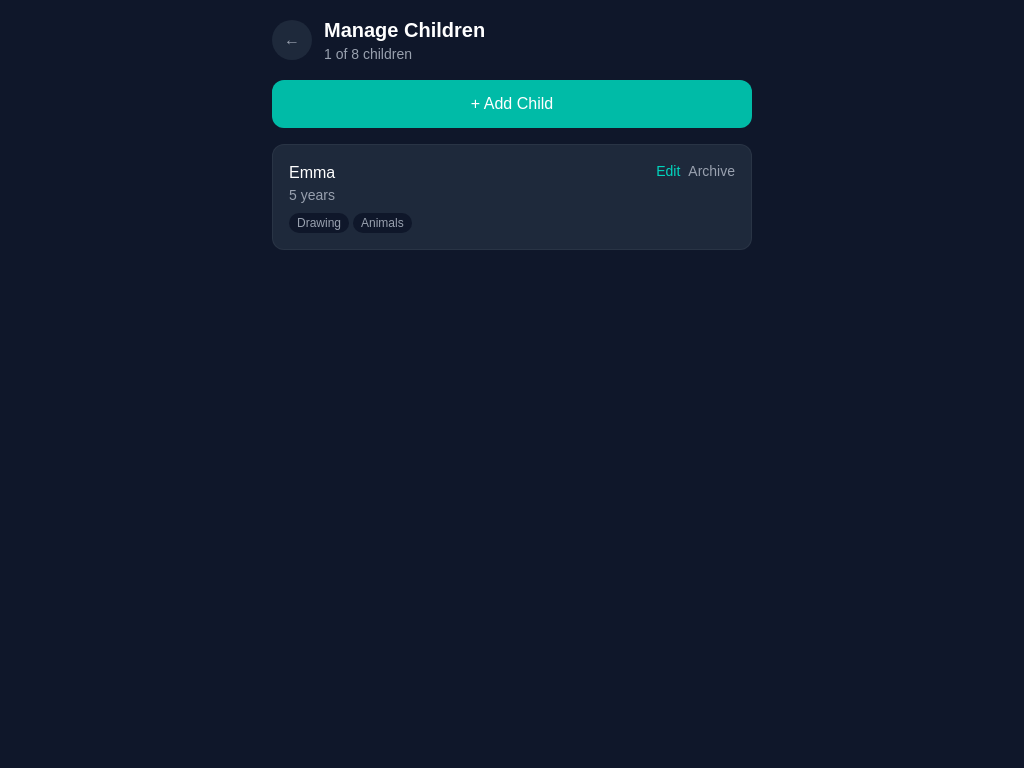
it: Profile Section › Children Management Page › archive requires confirmation dialog
This screenshot has width=1024, height=768.
// Find and click archive button for Emma
Click the button "Archive".
click(712, 171)  # box left=688, top=161, right=735, bottom=181
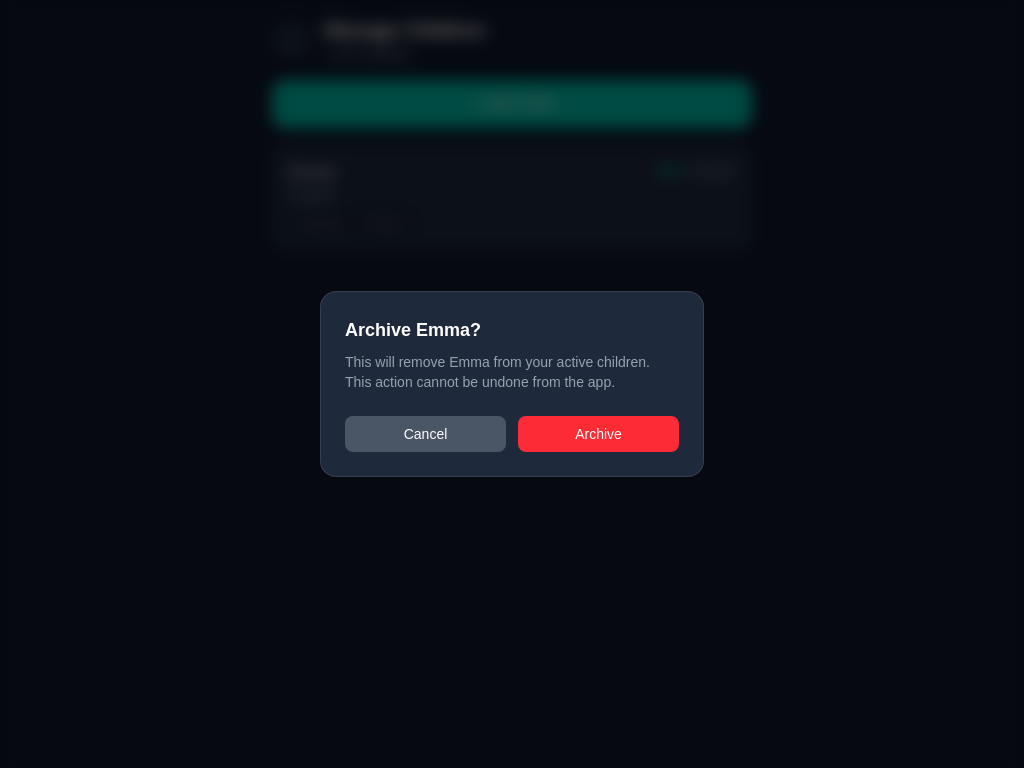
Now the heading "Archive Emma?" is shown, box left=345, top=320, right=481, bottom=340
Now the text "cannot be undone" is shown, box left=345, top=354, right=650, bottom=390
Now the button "Cancel" is shown, box left=345, top=416, right=506, bottom=452
